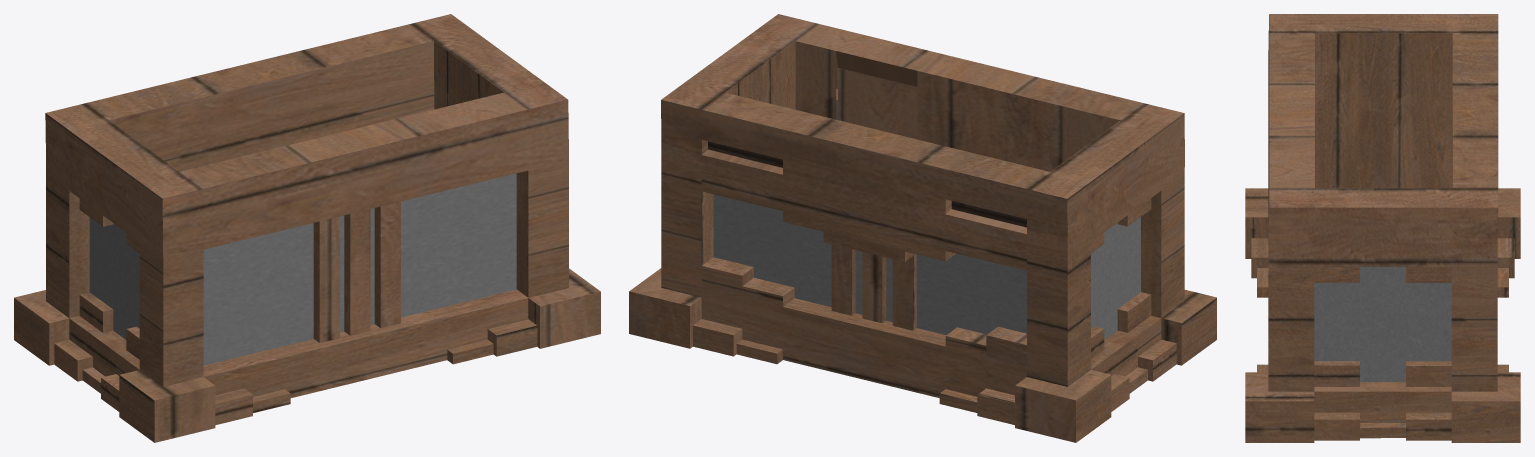
The model's file is Chest Bottom.fbx.
The picture shows the model from 3 angles, left to right: view 1: azimuth 30°, elevation 25°; view 2: azimuth 150°, elevation 25°; view 3: azimuth 270°, elevation 25°; orthographic projection. The views are drawn at different scales.
Visible parts, largest first — view 1: pCube1; view 2: pCube1; view 3: pCube1.
Part boxes in pixels (box(x1,y1,x2,y2)): pCube1: box(14, 14, 600, 442); pCube1: box(629, 14, 1216, 442); pCube1: box(1245, 14, 1520, 442).
Size of the model in its own units: 2.2 by 1.09 by 1.2.
